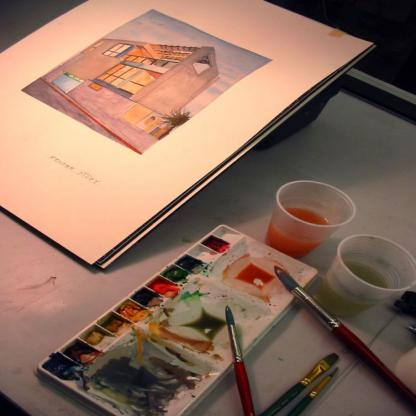book: (0, 0, 385, 273)
